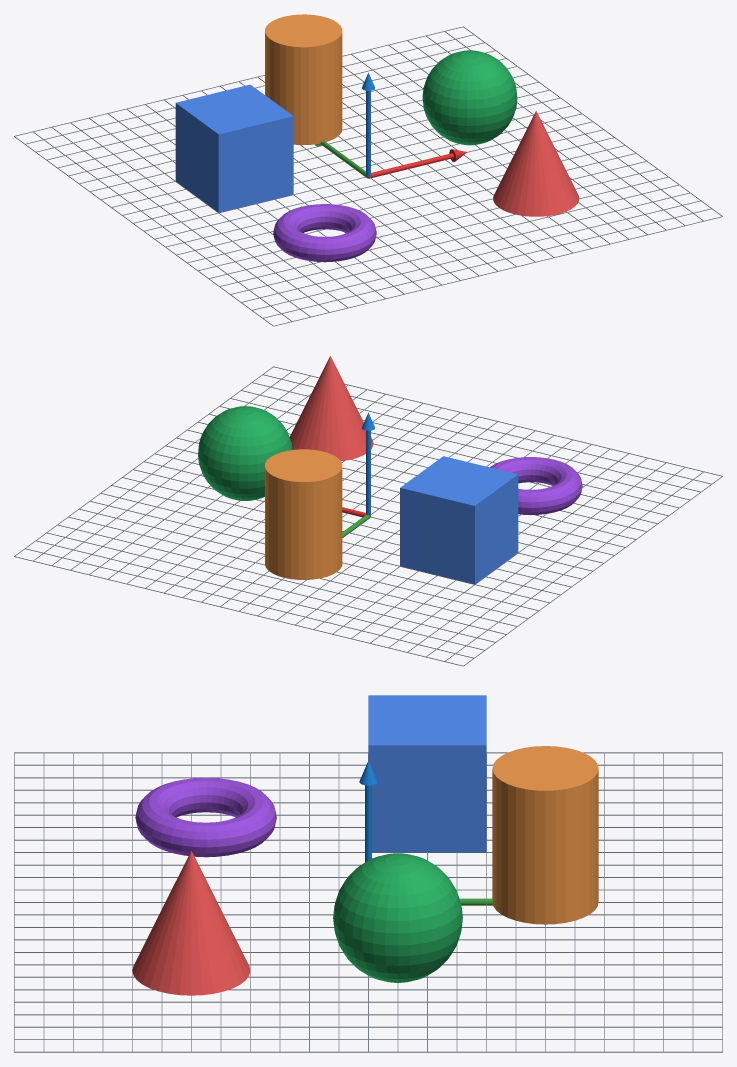
Rendered from ish01.glb.
3 renders of one model, top to bottom at view 1: azimuth 30°, elevation 25°; view 2: azimuth 150°, elevation 25°; view 3: azimuth 270°, elevation 25°, orthographic. The views are drawn at different scales.
Visible parts, largest first — view 1: Home_Grid, Box001, Cylinder001, Sphere001, Cone001, Torus001, X_oqi, Z_oqi; view 2: Home_Grid, Box001, Cylinder001, Sphere001, Cone001, Torus001, Z_oqi; view 3: Home_Grid, Box001, Cylinder001, Sphere001, Cone001, Torus001, Z_oqi.
Boxes of the visible parts, x1=… form: Home_Grid: x1=14, y1=26, x2=722, y2=326; Box001: x1=175, y1=84, x2=293, y2=212; Cylinder001: x1=265, y1=14, x2=342, y2=145; Sphere001: x1=422, y1=50, x2=517, y2=145; Cone001: x1=493, y1=111, x2=579, y2=216; Torus001: x1=273, y1=204, x2=376, y2=262; X_oqi: x1=368, y1=149, x2=466, y2=178; Z_oqi: x1=362, y1=72, x2=374, y2=177; Home_Grid: x1=14, y1=366, x2=722, y2=666; Box001: x1=400, y1=456, x2=518, y2=584; Cylinder001: x1=265, y1=449, x2=342, y2=579; Sphere001: x1=198, y1=406, x2=292, y2=500; Cone001: x1=289, y1=356, x2=373, y2=461; Torus001: x1=490, y1=457, x2=582, y2=515; Z_oqi: x1=362, y1=412, x2=374, y2=516; Home_Grid: x1=14, y1=752, x2=722, y2=1052; Box001: x1=368, y1=695, x2=486, y2=852; Cylinder001: x1=492, y1=746, x2=598, y2=924; Sphere001: x1=333, y1=853, x2=462, y2=982; Cone001: x1=132, y1=851, x2=250, y2=995; Torus001: x1=135, y1=777, x2=276, y2=857; Z_oqi: x1=359, y1=760, x2=377, y2=862.
Size of the model in its own units: 2.4 by 0.5612 by 2.4.
